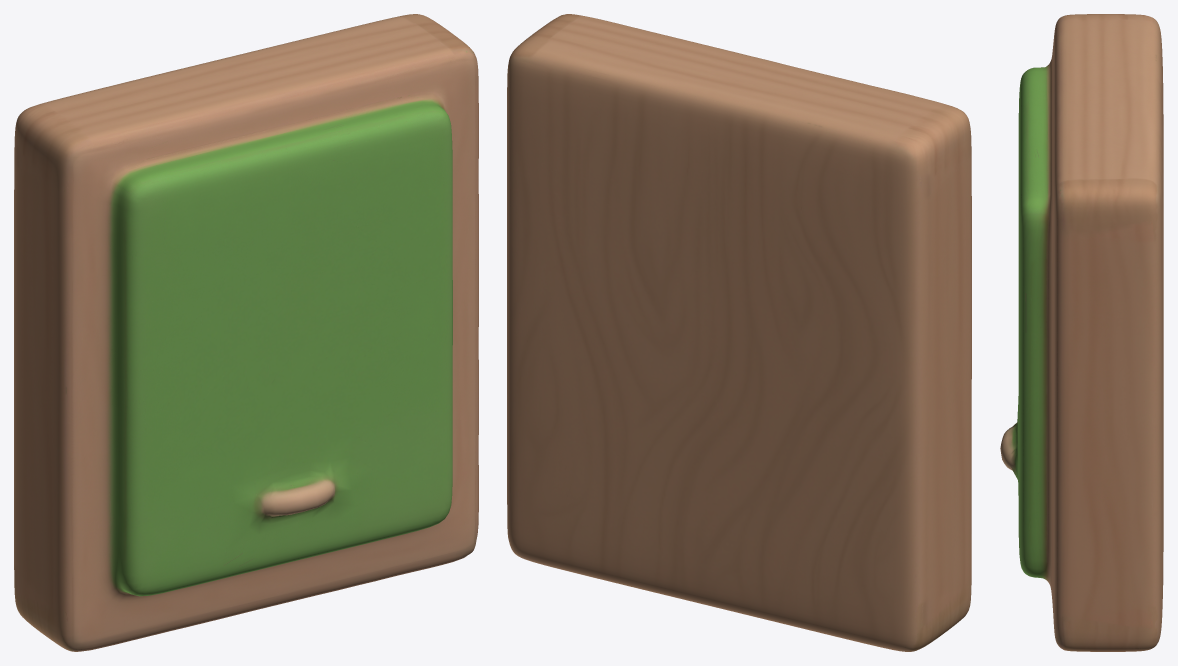
Rendered from Green_Cupboard.glb.
The picture shows the model from 3 angles, left to right: view 1: azimuth 30°, elevation 25°; view 2: azimuth 150°, elevation 25°; view 3: azimuth 270°, elevation 25°; orthographic projection. The views are drawn at different scales.
Size of the model in its own units: 1.63 by 1.91 by 0.6037.
1 material, 1 textured.
